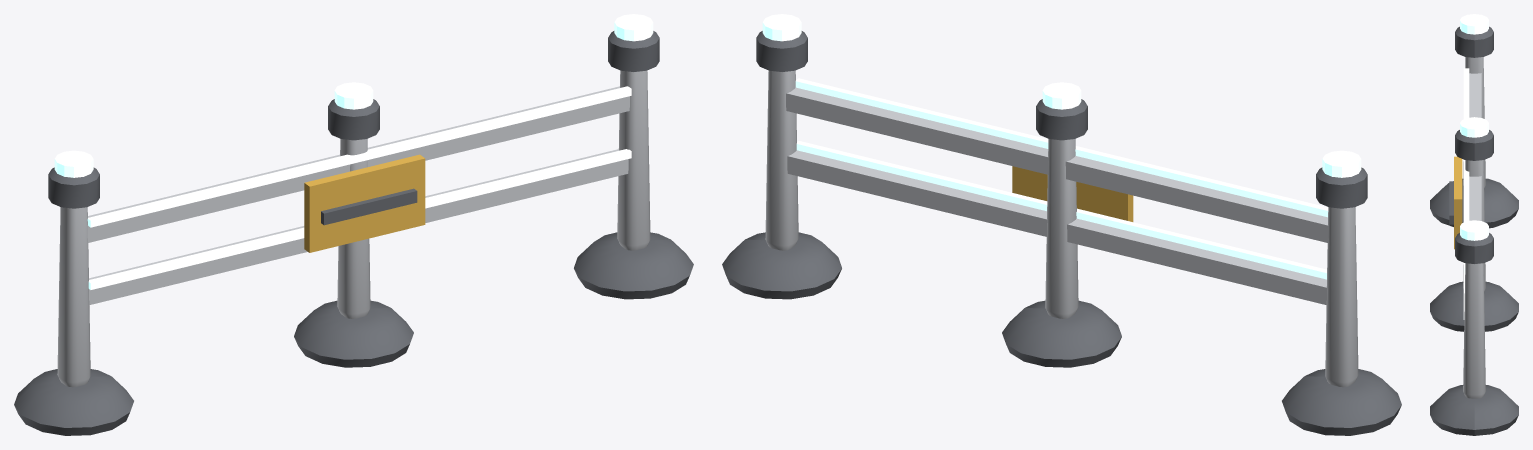
Rendered from hover-transit-and-antigrav-fleet-queue-barrier-d098ccae__17119.glb.
3 renders of one model, left to right at view 1: azimuth 30°, elevation 25°; view 2: azimuth 150°, elevation 25°; view 3: azimuth 270°, elevation 25°, orthographic. The views are drawn at different scales.
Visible parts, largest first — view 1: queue-barrier; view 2: queue-barrier; view 3: queue-barrier.
Part boxes in pixels (x1,y1,x2,y2): queue-barrier: (14, 14, 693, 435); queue-barrier: (722, 14, 1401, 435); queue-barrier: (1430, 14, 1518, 435).
Size of the model in its own units: 3.56 by 1.3 by 0.5458.
